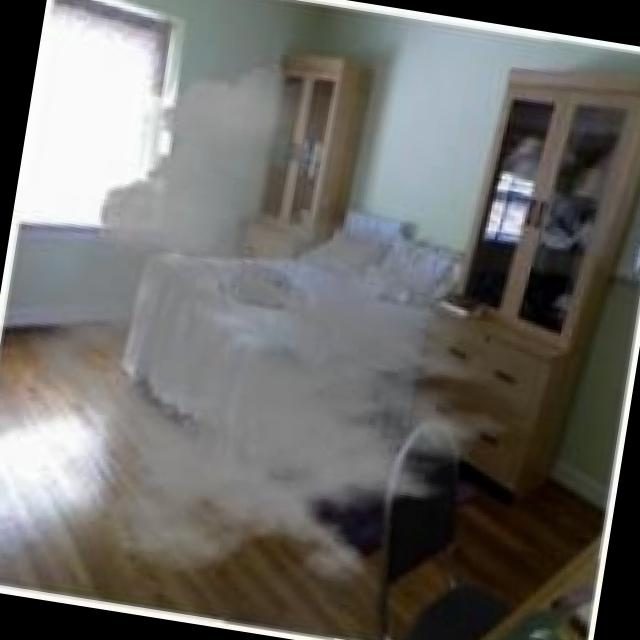smoke: (135, 220, 460, 570)
